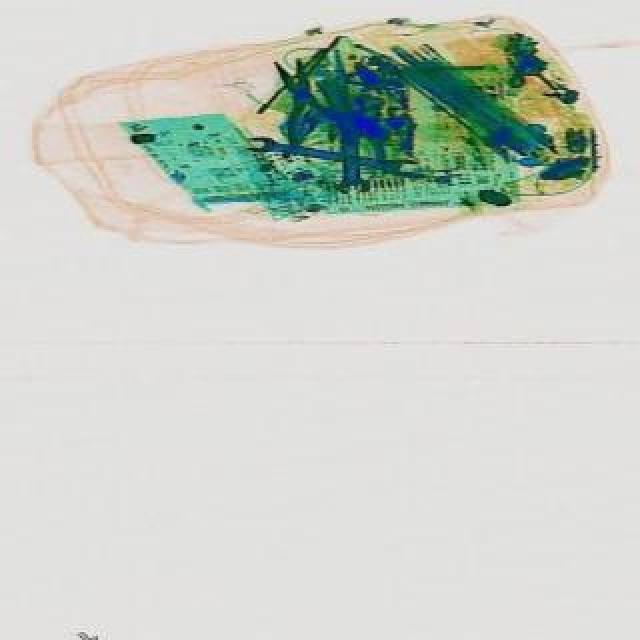scissors: (248, 136, 424, 184), (336, 114, 374, 196)
wrench: (264, 48, 358, 160)
